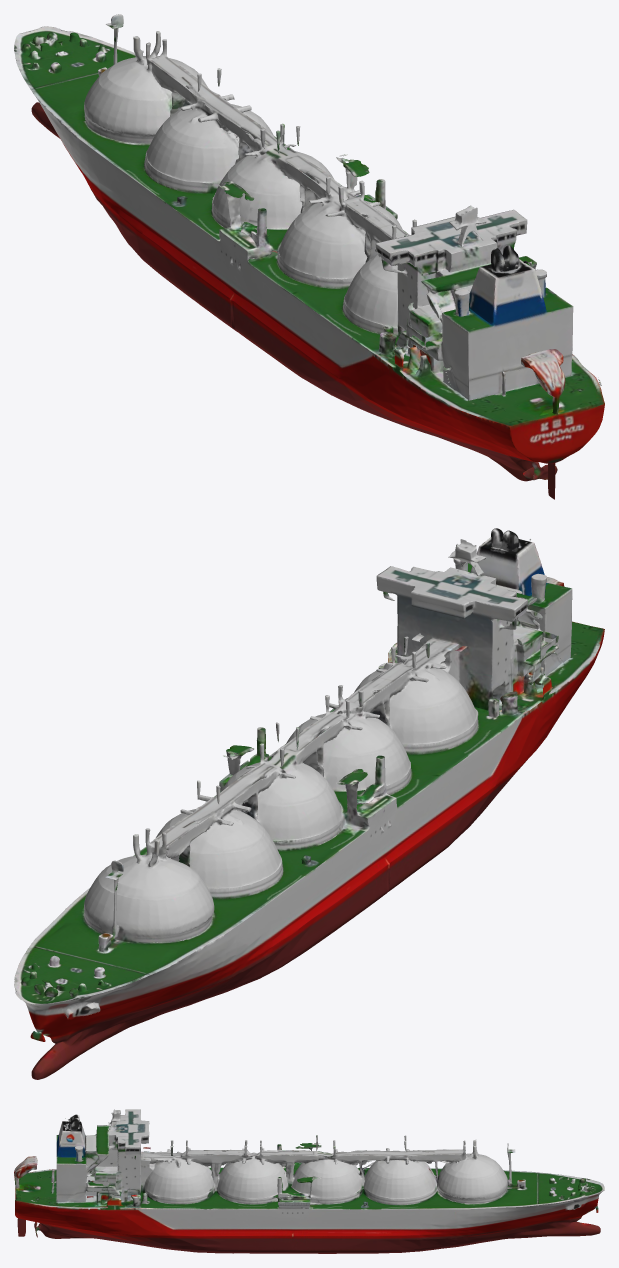
File: Lng-carrier.glb
The picture shows the model from 3 angles, top to bottom: view 1: azimuth 30°, elevation 25°; view 2: azimuth 150°, elevation 25°; view 3: azimuth 270°, elevation 25°; orthographic projection. The views are drawn at different scales.
Visible parts, largest first — view 1: tripo_node_e4c338a1-1967-4915-8e4a-1a0fee424f48; view 2: tripo_node_e4c338a1-1967-4915-8e4a-1a0fee424f48; view 3: tripo_node_e4c338a1-1967-4915-8e4a-1a0fee424f48.
Boxes of the visible parts, x1,y1,x2,y2 form: tripo_node_e4c338a1-1967-4915-8e4a-1a0fee424f48: (14, 14, 604, 499); tripo_node_e4c338a1-1967-4915-8e4a-1a0fee424f48: (14, 528, 604, 1079); tripo_node_e4c338a1-1967-4915-8e4a-1a0fee424f48: (14, 1109, 604, 1253).
Size of the model in its own units: 0.1747 by 0.2511 by 1.
Materials: 1 (1 with a texture image).
